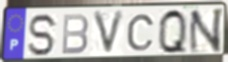B: (60, 13, 90, 56)
C: (125, 13, 156, 53)
N: (188, 7, 226, 56)
Q: (157, 8, 189, 56)
S: (27, 13, 60, 59)
V: (91, 9, 127, 58)
